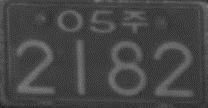0: (56, 8, 84, 32)
1: (63, 38, 99, 96)
2: (153, 39, 196, 98), (13, 38, 55, 94)
5: (89, 9, 116, 34)
8: (107, 39, 147, 97)
주: (121, 9, 147, 34)
